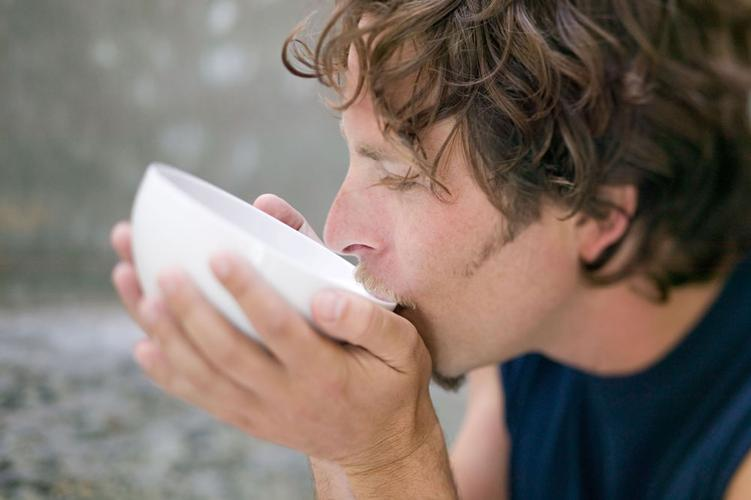no-phone: (106, 156, 434, 492)
